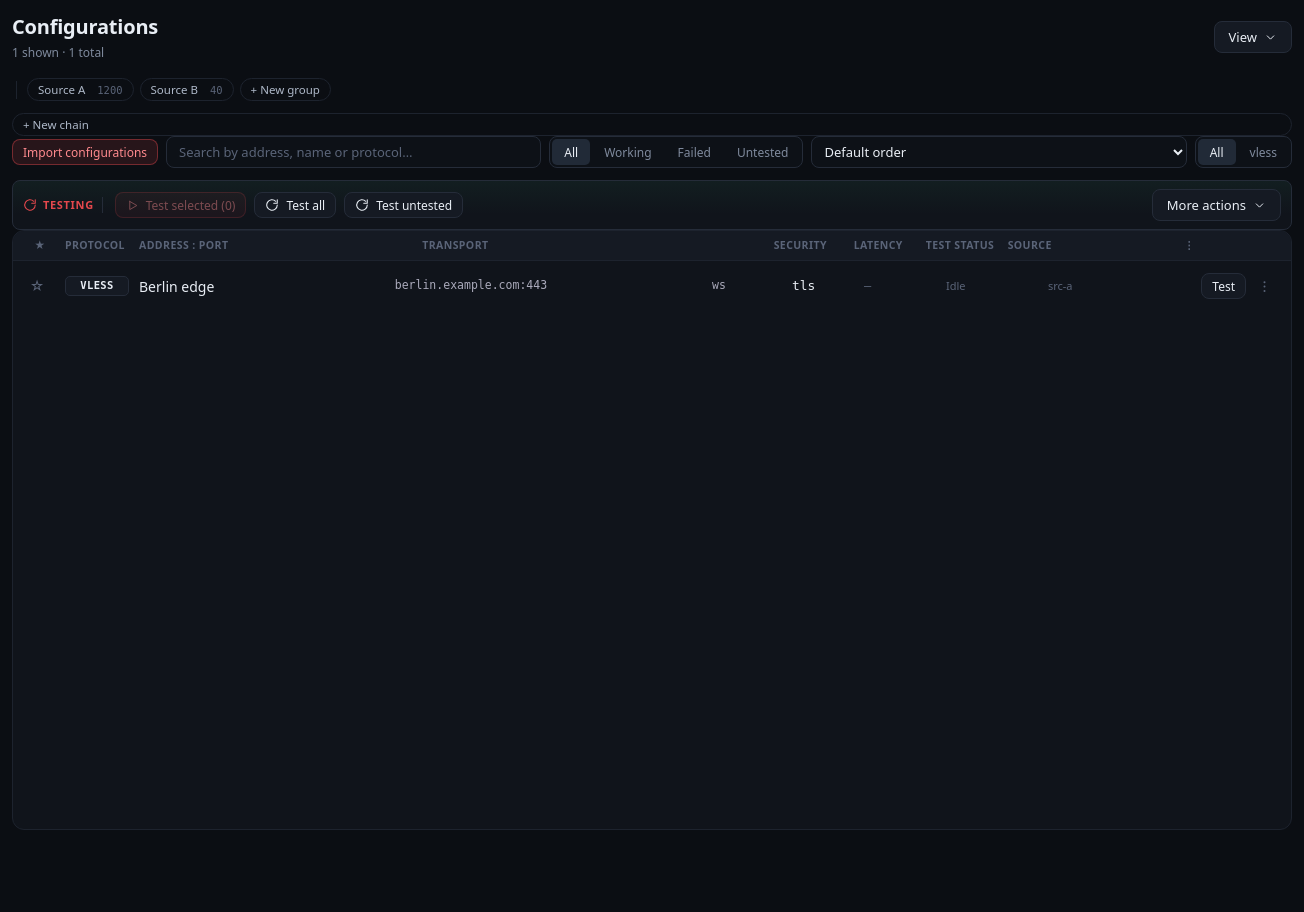
Test: Configuration scope rail (v0.12.1) › shows the source scope header with measured evidence and per-source actions
Click the button "Source A 1200".
click(80, 90)  # box [27,78,134,101]
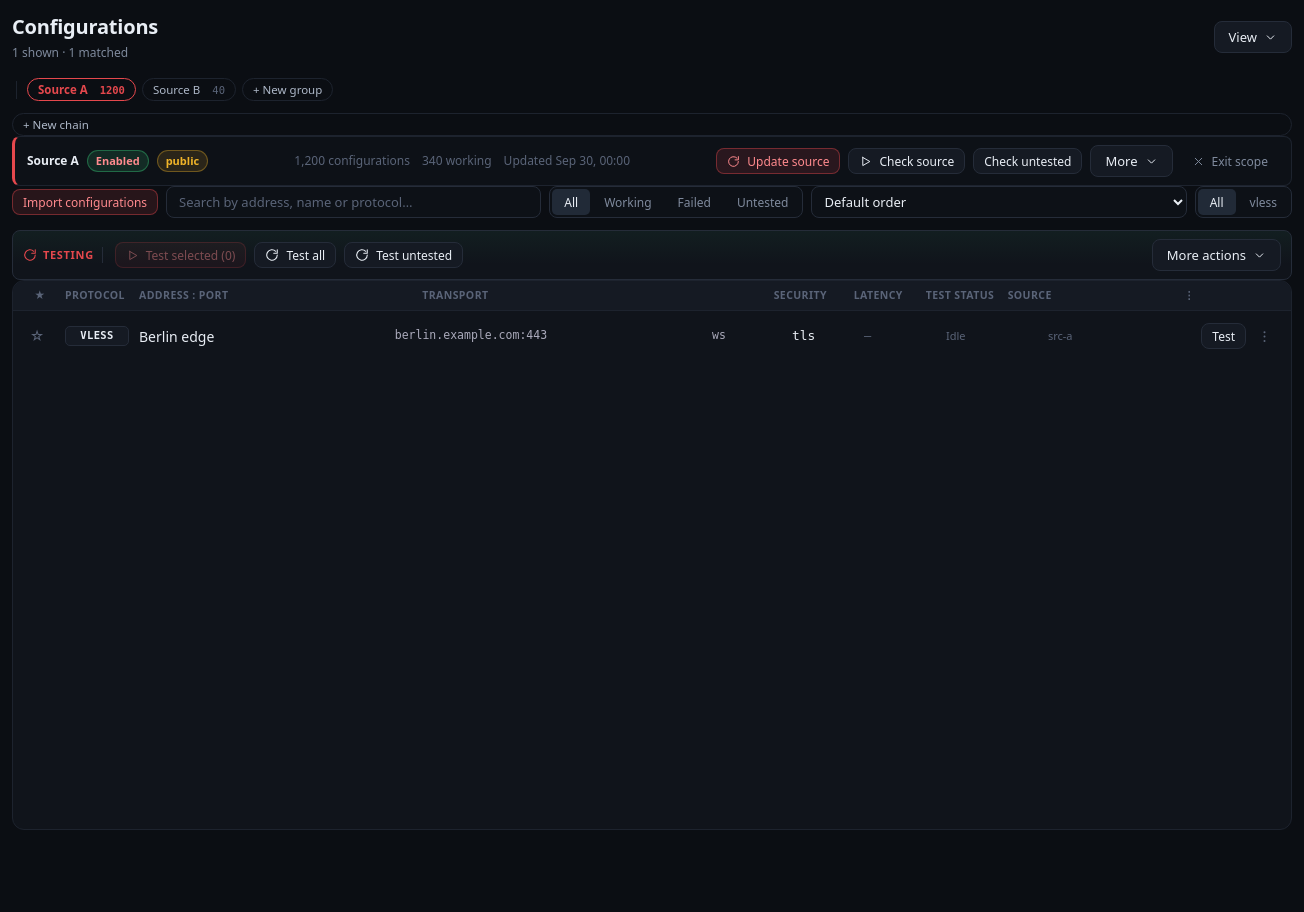
Expected: the text "340 working" is shown, [422,152,492,170]
Expected: the text "public" is shown, [157,150,208,172]
Expected: the button "Update source" is shown, [716,148,840,174]
